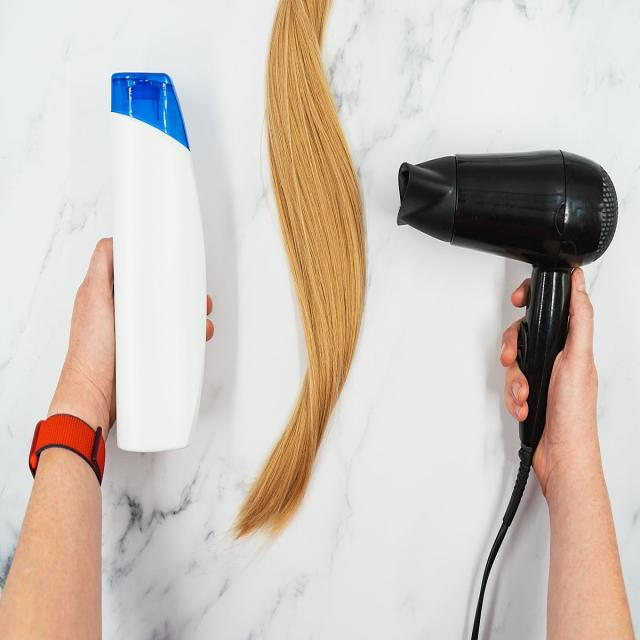dryer: (396, 146, 620, 522)
